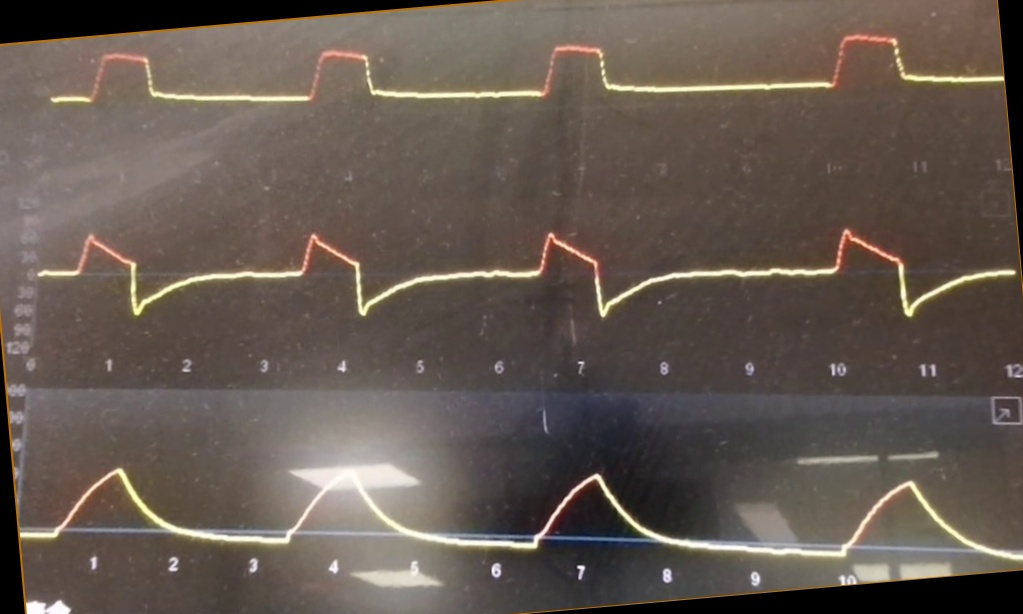Normal Flow: (36, 210, 1014, 338)
Normal Volume: (22, 435, 1021, 561)
